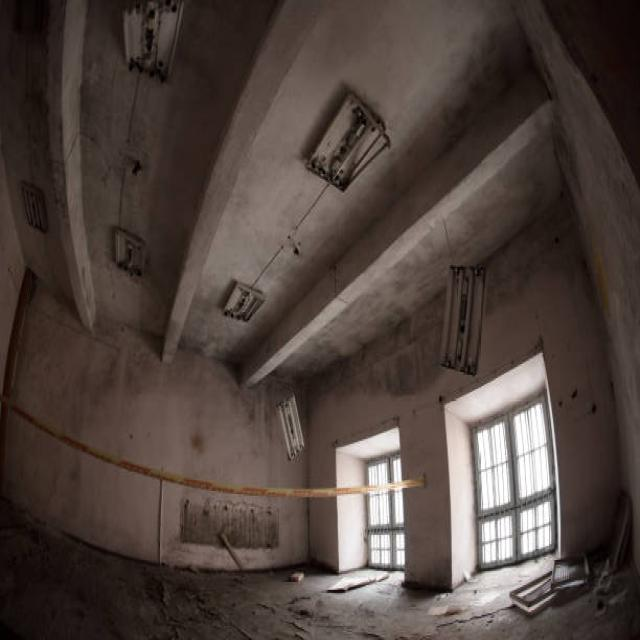floor: (0, 500, 640, 640)
wall: (307, 195, 620, 590), (240, 65, 551, 387), (508, 0, 640, 577), (3, 268, 308, 490), (0, 405, 310, 571), (443, 352, 560, 590), (60, 0, 98, 332), (336, 425, 401, 572), (0, 134, 27, 405)
